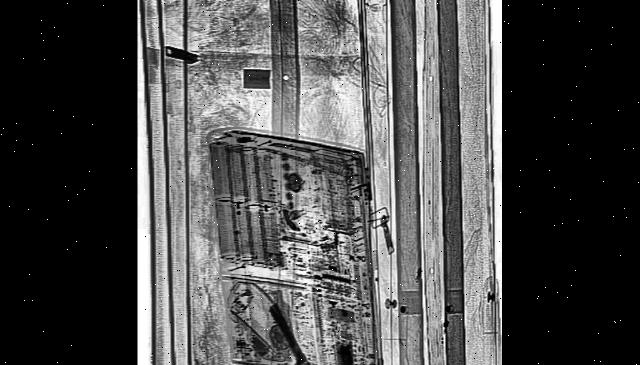Gun: (263, 293, 328, 365)
